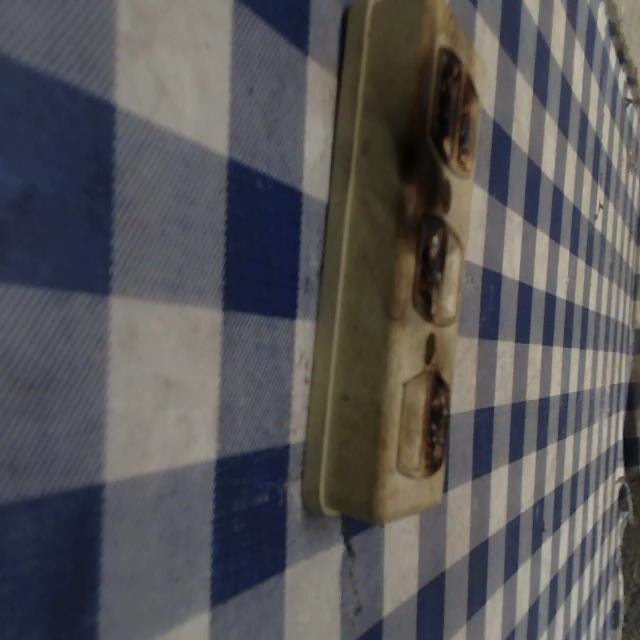-: (428, 41, 480, 178), (412, 211, 447, 324), (420, 364, 450, 475)
